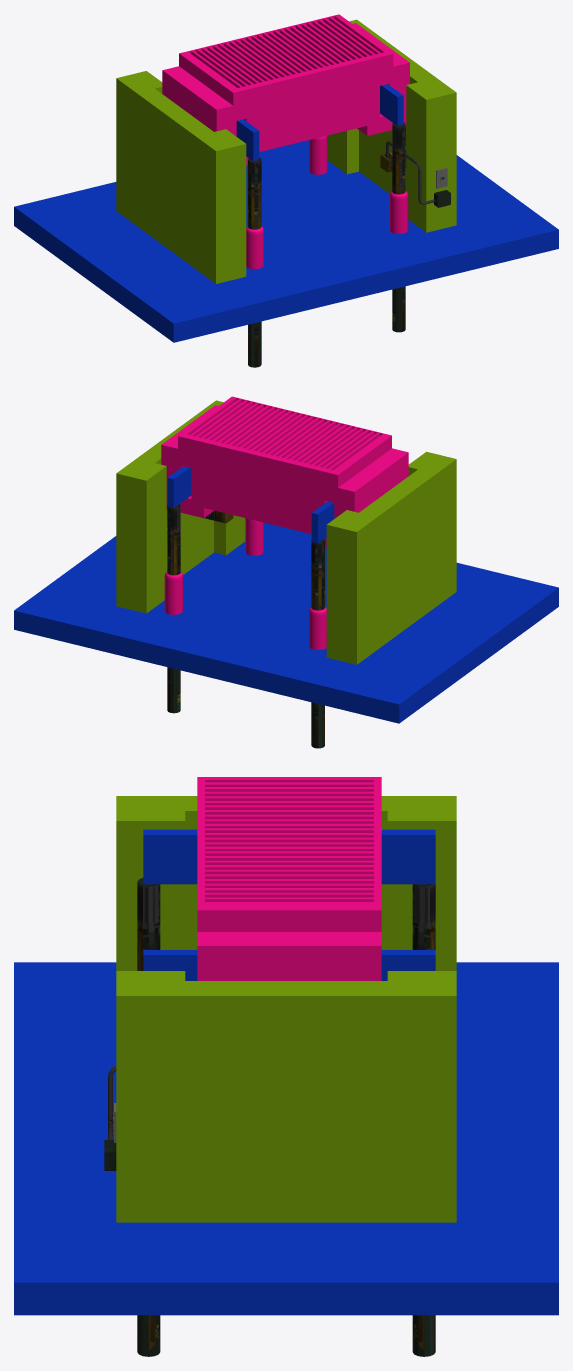
Rendered from L1E1_MovingPlatforms_01_Press.fbx.
3 renders of one model, top to bottom at view 1: azimuth 30°, elevation 25°; view 2: azimuth 150°, elevation 25°; view 3: azimuth 270°, elevation 25°, orthographic. The views are drawn at different scales.
Parts seen in each view (by area): view 1: Metal02, Metal03, Metal01, hydraulicpressStation_5, hydraulicpressStation_4, hydraulicpressStation_2; view 2: Metal02, Metal03, Metal01, hydraulicpressStation_5, hydraulicpressStation_4; view 3: Metal02, Metal03, Metal01, hydraulicpressStation_5, hydraulicpressStation_2.
Boxes of the visible parts, x1,y1,x2,y2 form: Metal02: (14,84,558,342); Metal03: (116,19,456,283); Metal01: (162,14,409,165); hydraulicpressStation_5: (248,122,405,367); hydraulicpressStation_4: (246,135,408,269); hydraulicpressStation_2: (380,141,450,207); Metal02: (14,466,558,723); Metal03: (116,400,456,664); Metal01: (161,396,408,547); hydraulicpressStation_5: (167,504,324,748); hydraulicpressStation_4: (164,518,326,649); Metal02: (14,829,558,1315); Metal03: (116,796,456,1222); Metal01: (197,777,381,980); hydraulicpressStation_5: (137,878,435,1356); hydraulicpressStation_2: (104,1066,116,1170).
Bounding box in the file's own units: 2.1 × 1.38 × 1.51.
5 materials, 1 textured.
